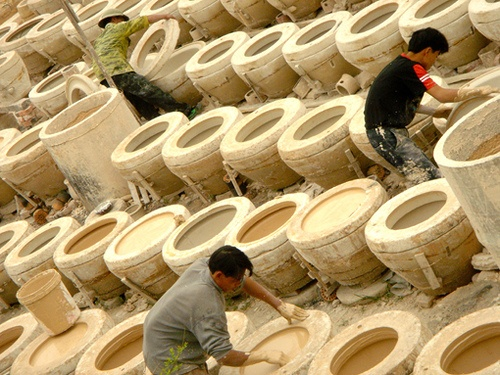head: (209, 246, 248, 294), (408, 27, 445, 70)
person: (142, 240, 313, 375), (360, 22, 465, 185)
